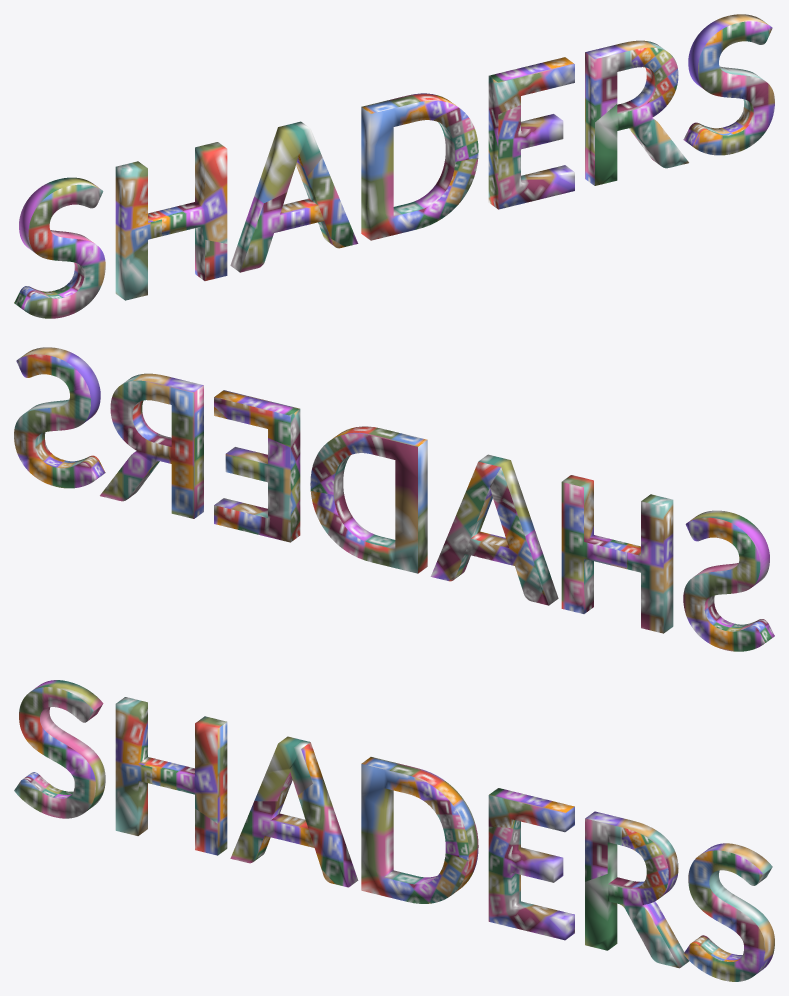
File: shaders.dae
3 views of the same model, one above another, from view 1: azimuth 30°, elevation 25°; view 2: azimuth 150°, elevation 25°; view 3: azimuth 330°, elevation 25° (orthographic).
Parts seen in each view (by area): view 1: text-0; view 2: text-0; view 3: text-0.
Boxes of the visible parts, <box> form: text-0: <box>14,14,774,318</box>; text-0: <box>14,347,774,651</box>; text-0: <box>14,680,774,981</box>.
Size of the model in its own units: 8.96 by 1.48 by 0.2.
